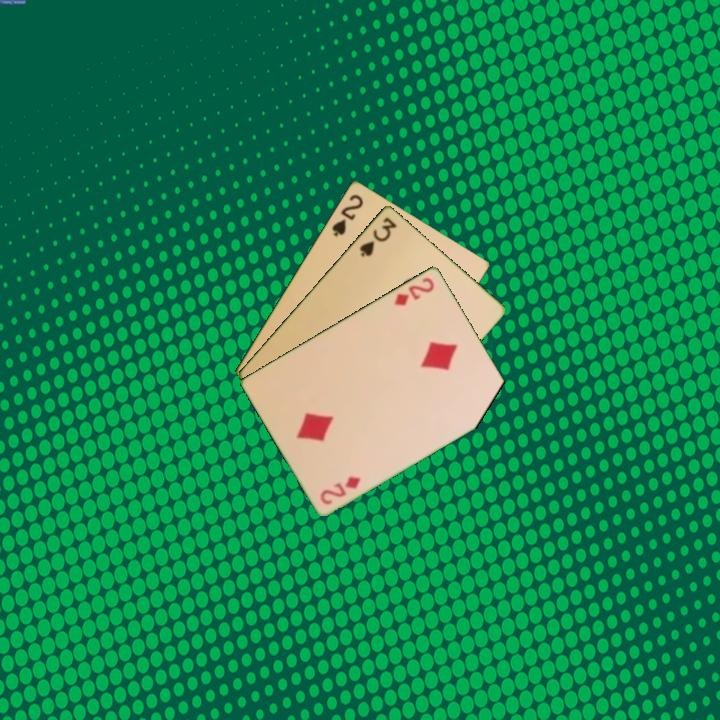2d: (391, 273, 437, 309), (317, 472, 363, 507)
2s: (328, 190, 366, 239)
3s: (356, 213, 400, 260)
